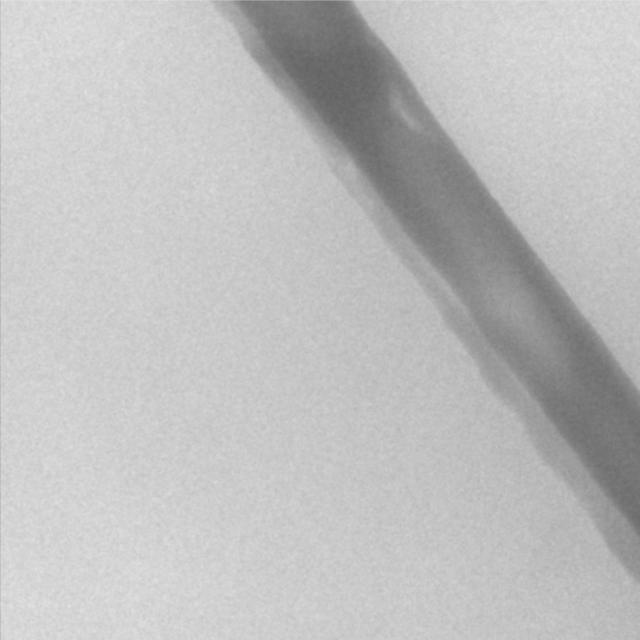unfused: (389, 91, 422, 131)
